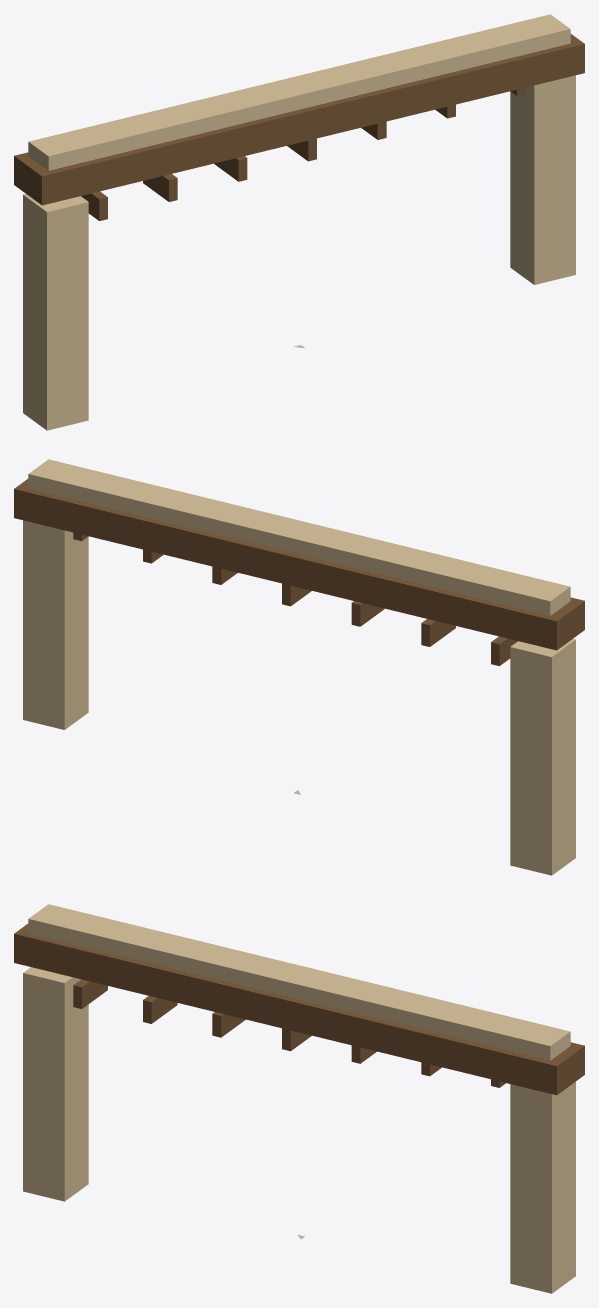
Rendered from resort_arch.glb.
3 renders of one model, top to bottom at view 1: azimuth 30°, elevation 25°; view 2: azimuth 150°, elevation 25°; view 3: azimuth 330°, elevation 25°, orthographic.
Visible parts, largest first — view 1: resort_arch_lod0; view 2: resort_arch_lod0; view 3: resort_arch_lod0.
Boxes of the visible parts, left/top/right/bottom form: resort_arch_lod0: left=14, top=14, right=584, bottom=430; resort_arch_lod0: left=14, top=459, right=584, bottom=875; resort_arch_lod0: left=14, top=904, right=584, bottom=1293.
Size of what is drawn, in the model's own units: 15.6 by 7.47 by 1.4.
